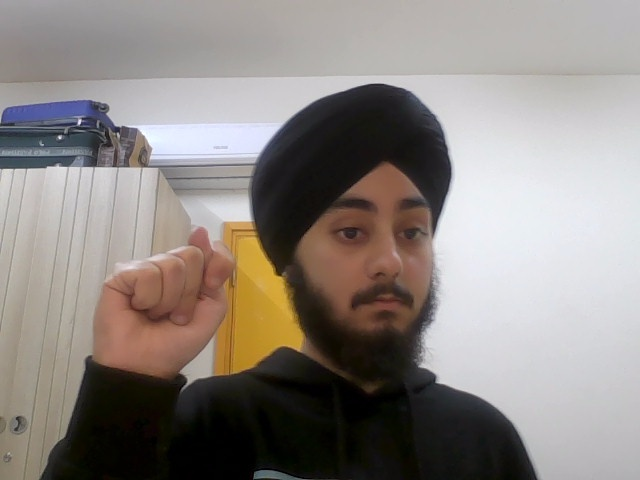Bathroom: (81, 224, 235, 366)
